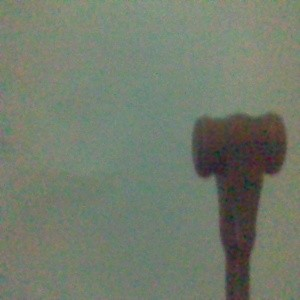palu: (192, 111, 288, 300)
